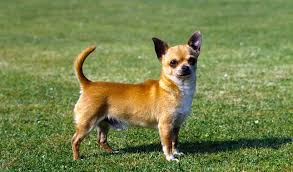Bulldog: (61, 22, 207, 167)
